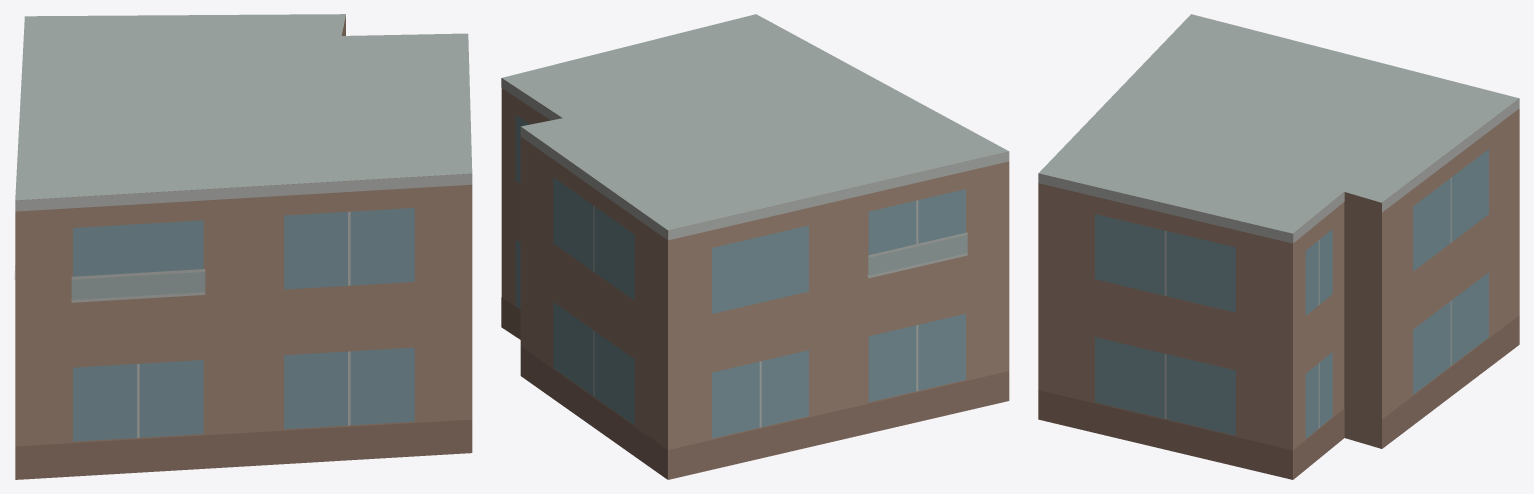
Rendered from survey-upis-33021687.glb.
3 renders of one model, left to right at view 1: azimuth 30°, elevation 25°; view 2: azimuth 150°, elevation 25°; view 3: azimuth 270°, elevation 25°, orthographic. The views are drawn at different scales.
Parts seen in each view (by area): view 1: survey-upis-33021687.tmp; view 2: survey-upis-33021687.tmp; view 3: survey-upis-33021687.tmp.
Boxes of the visible parts, bbox=[...] form: survey-upis-33021687.tmp: bbox=[14, 14, 472, 479]; survey-upis-33021687.tmp: bbox=[501, 14, 1009, 479]; survey-upis-33021687.tmp: bbox=[1038, 14, 1519, 479].
Bounding box in the file's own units: 11.68 × 6.1 × 10.82.
